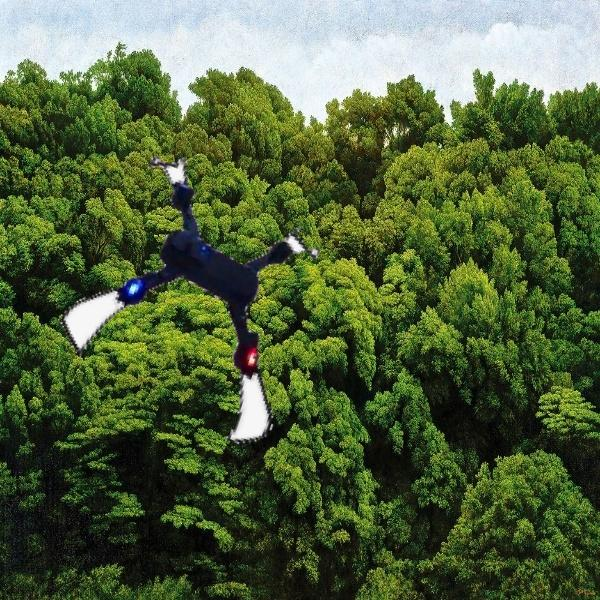drone: (69, 168, 331, 430)
